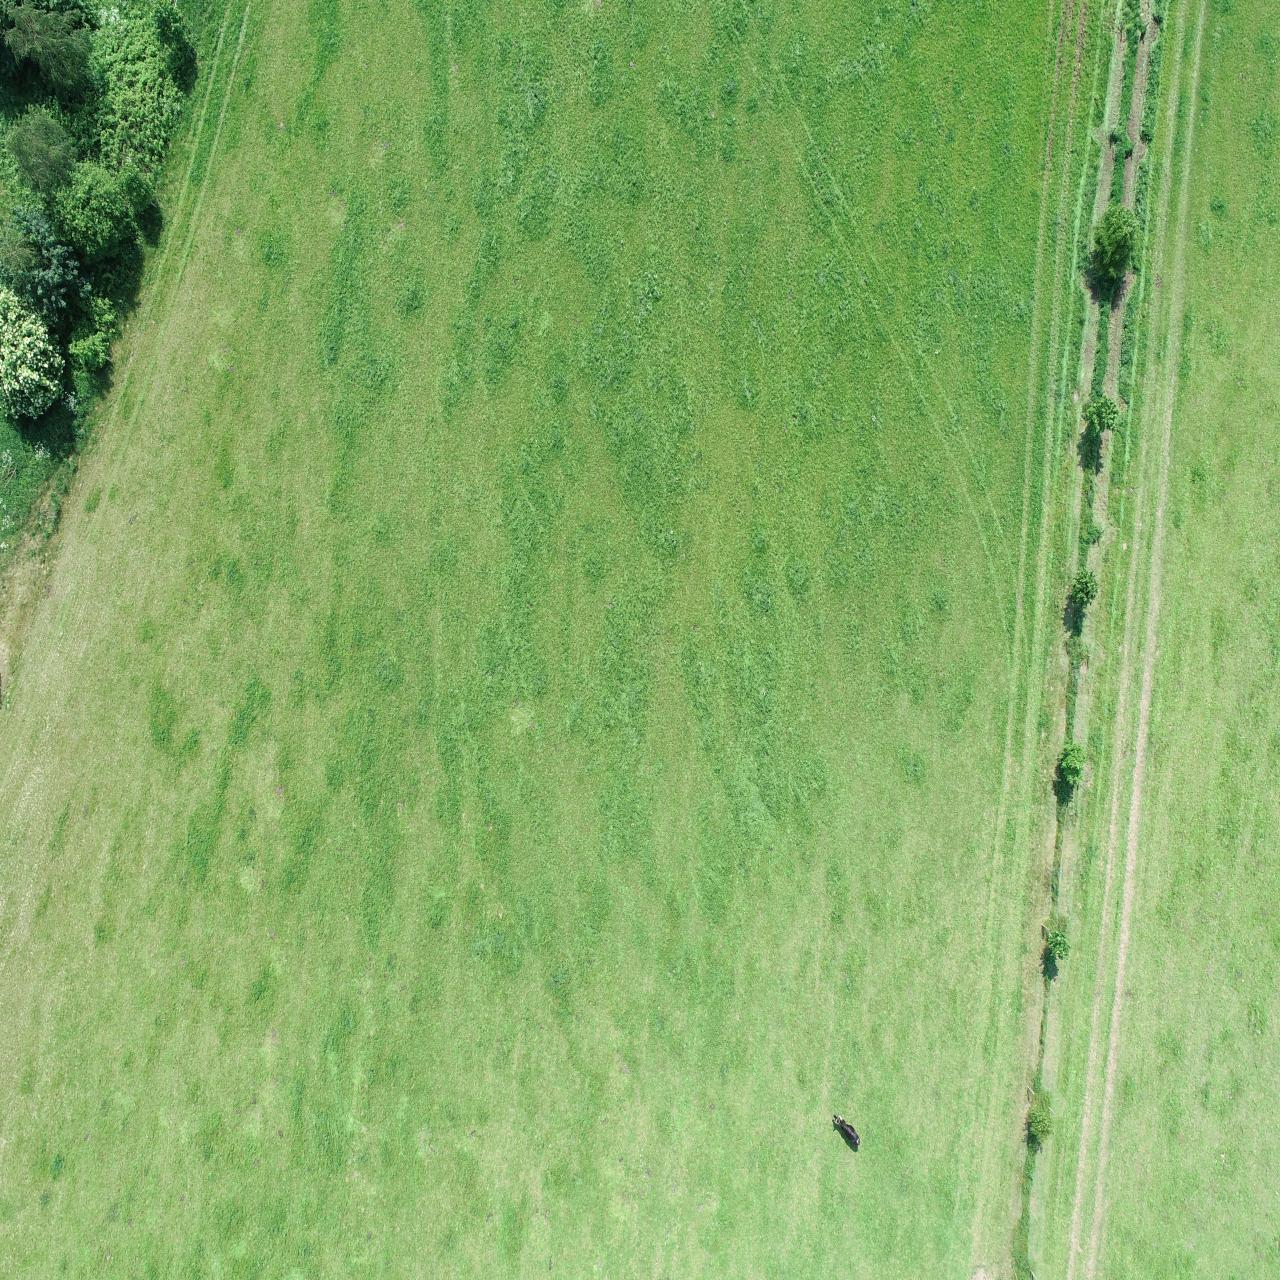cow: (830, 1112, 865, 1155)
